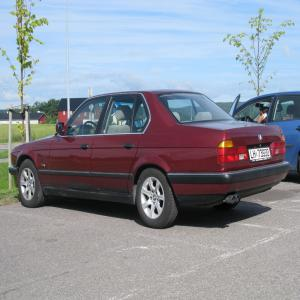Vehicle-registration-plate: (249, 147, 272, 165)
